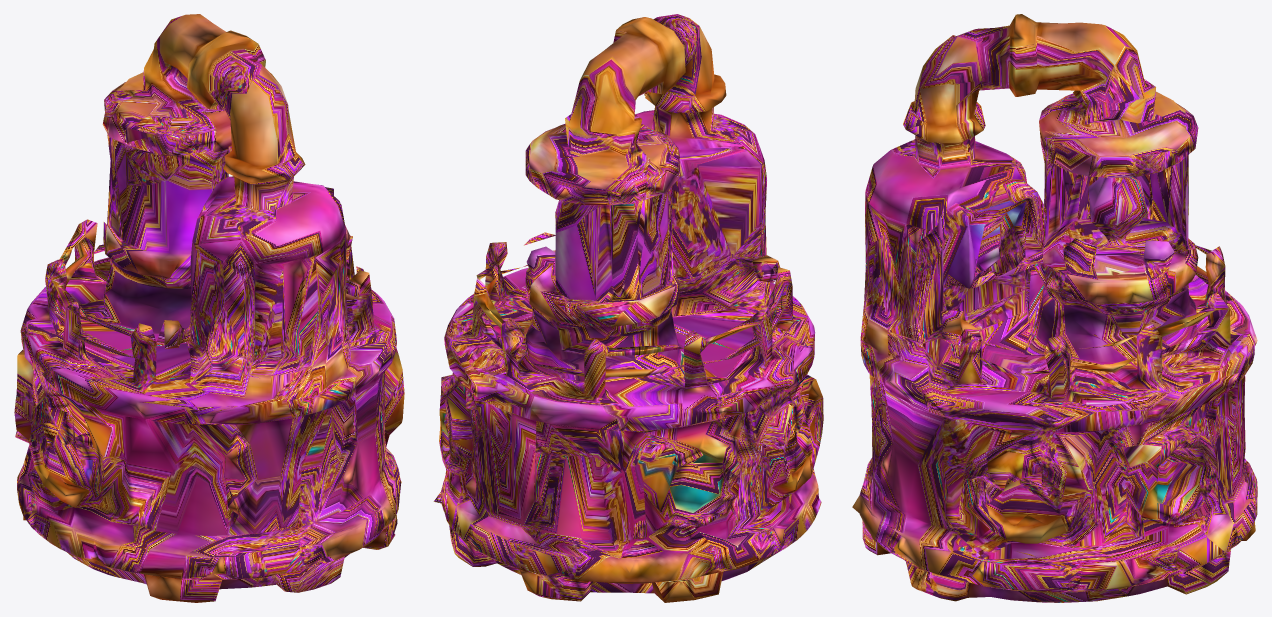
Rendered from 912_tiny_lod2.glb.
3 renders of one model, left to right at view 1: azimuth 30°, elevation 25°; view 2: azimuth 150°, elevation 25°; view 3: azimuth 270°, elevation 25°, orthographic. The views are drawn at different scales.
Bounding box in the file's own units: 0.6849 × 0.9752 × 0.6887.
Materials: 1 (1 with a texture image).
